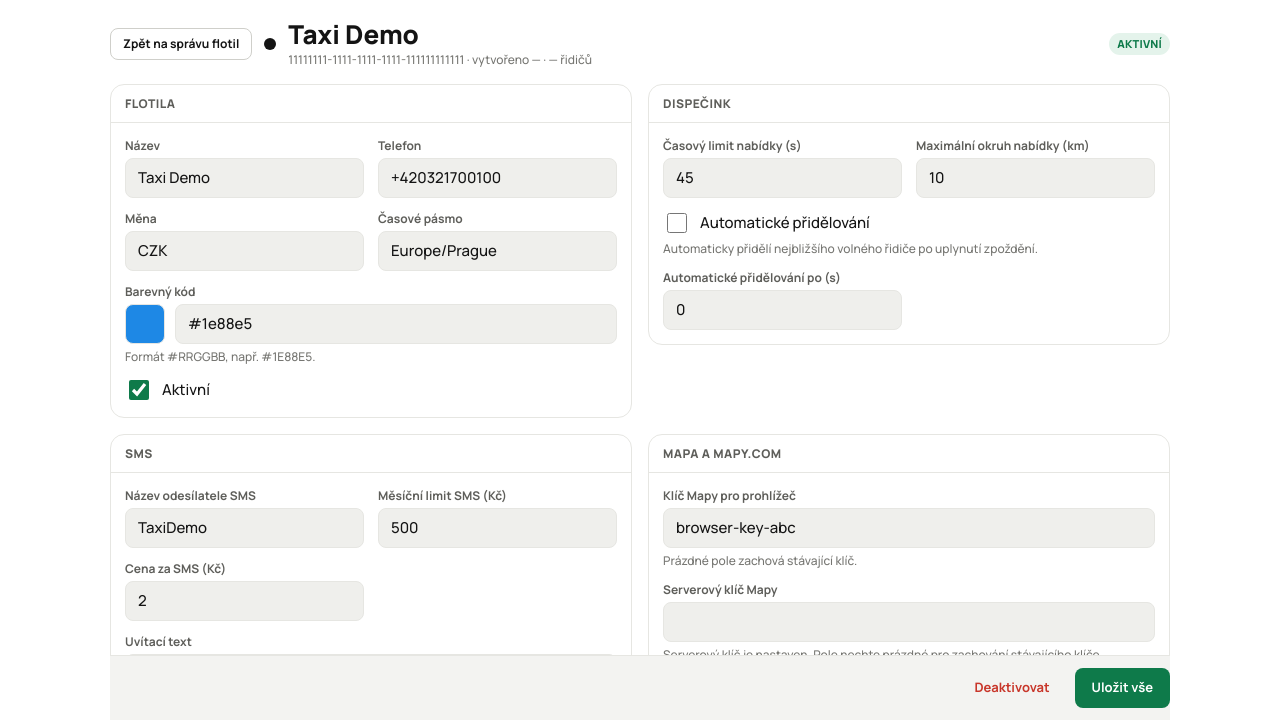
Test: AdminTenantSettingsPage (UC-012) › submits the mapped request and shows the success banner
Check: the field showing "Taxi Demo" is shown, box [136,159,353,197]
Step 1. Click the button "Uložit vše" → (1122, 688), box [1075,668,1170,708]
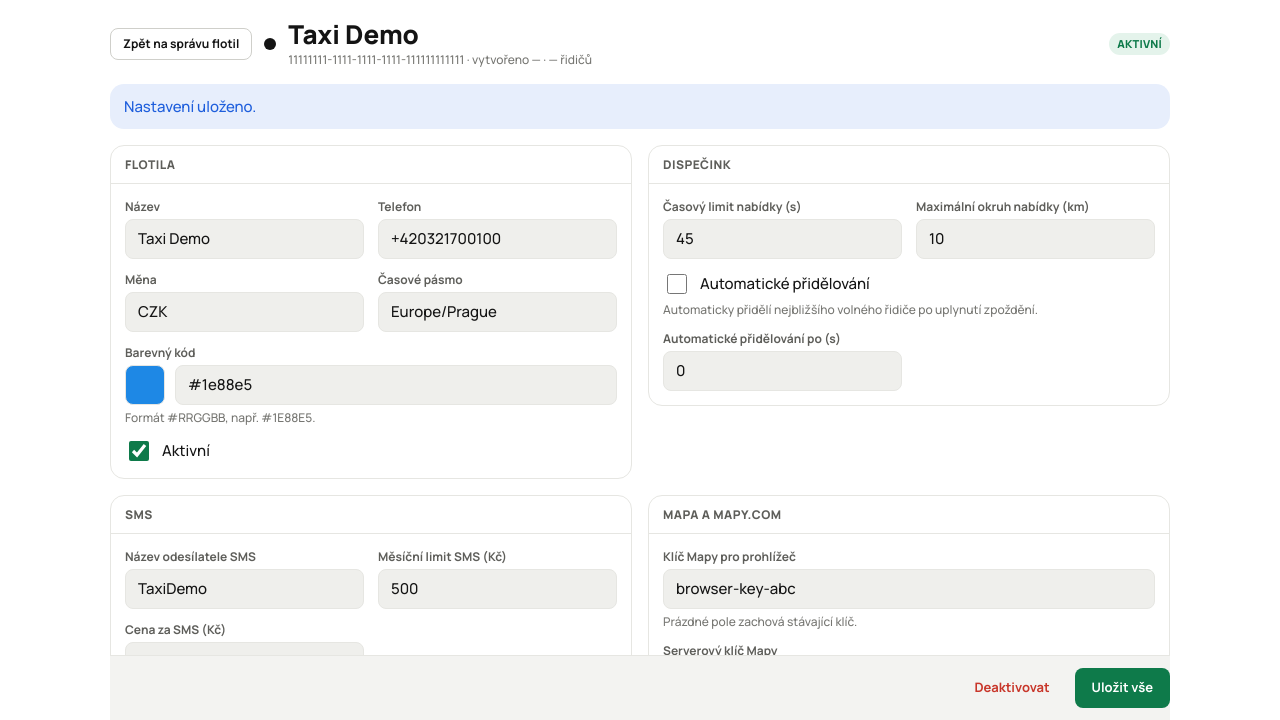
Check: the message shows "uloženo", box [124,96,256,117]
